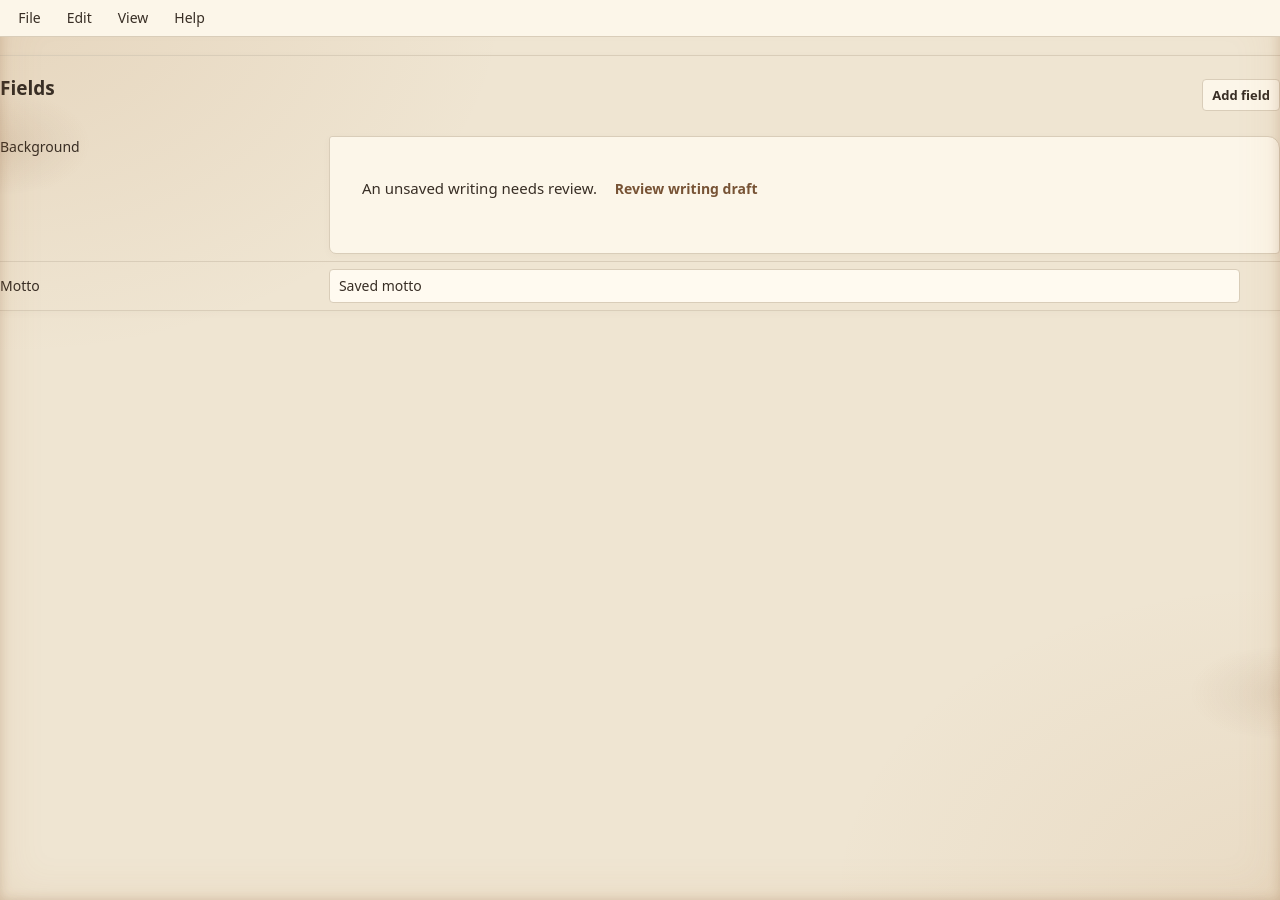
Test case: requires review of a recovered Field draft and blocks close until the author chooses
What coordinates should you click on to do the following:
click the button "Review writing draft"
I would click on:
 (686, 189)
Its box is [601,169,772,209].
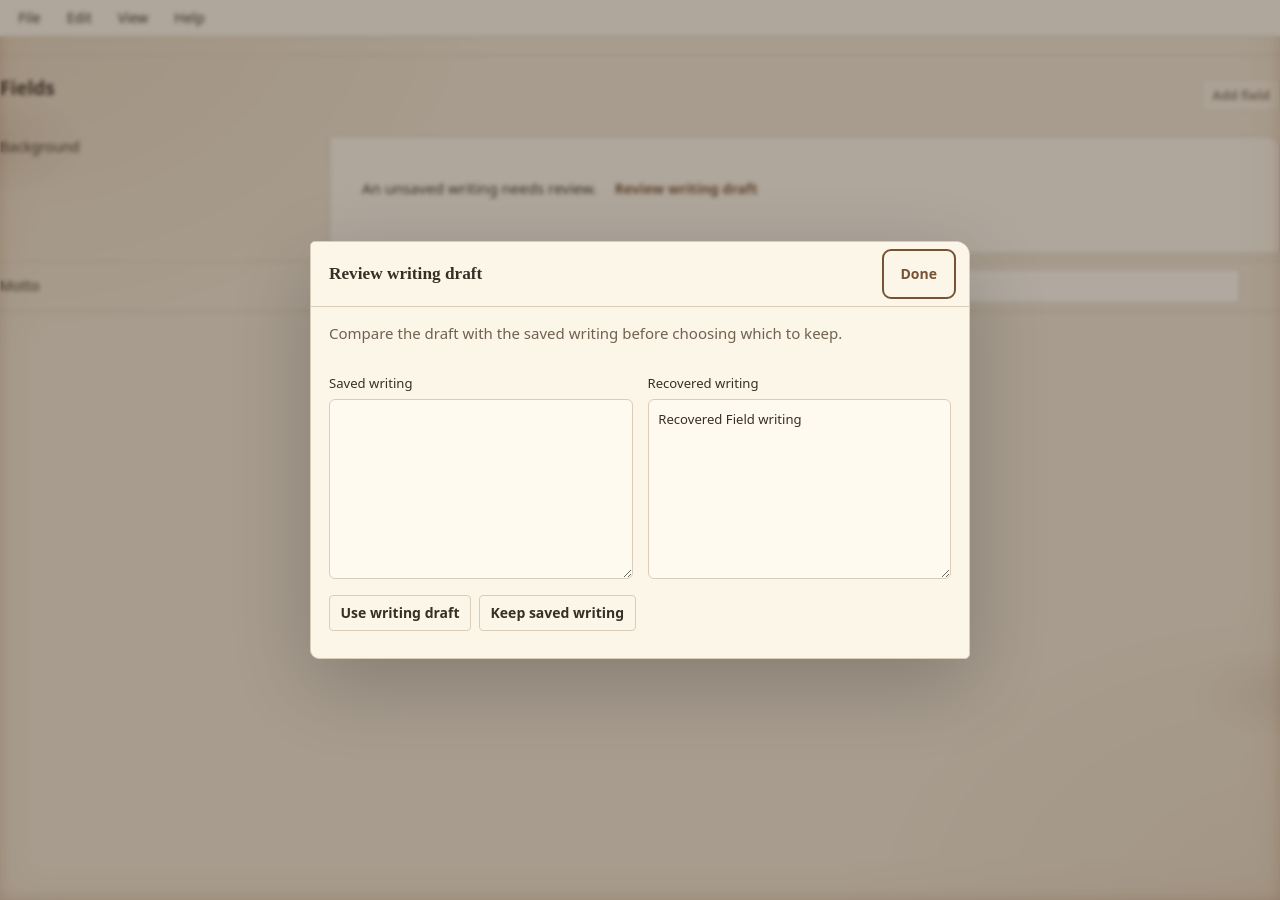
What coordinates should you click on to do the following:
click the button "Use writing draft"
I would click on:
 (400, 613)
Its box is [329,595,471,631].
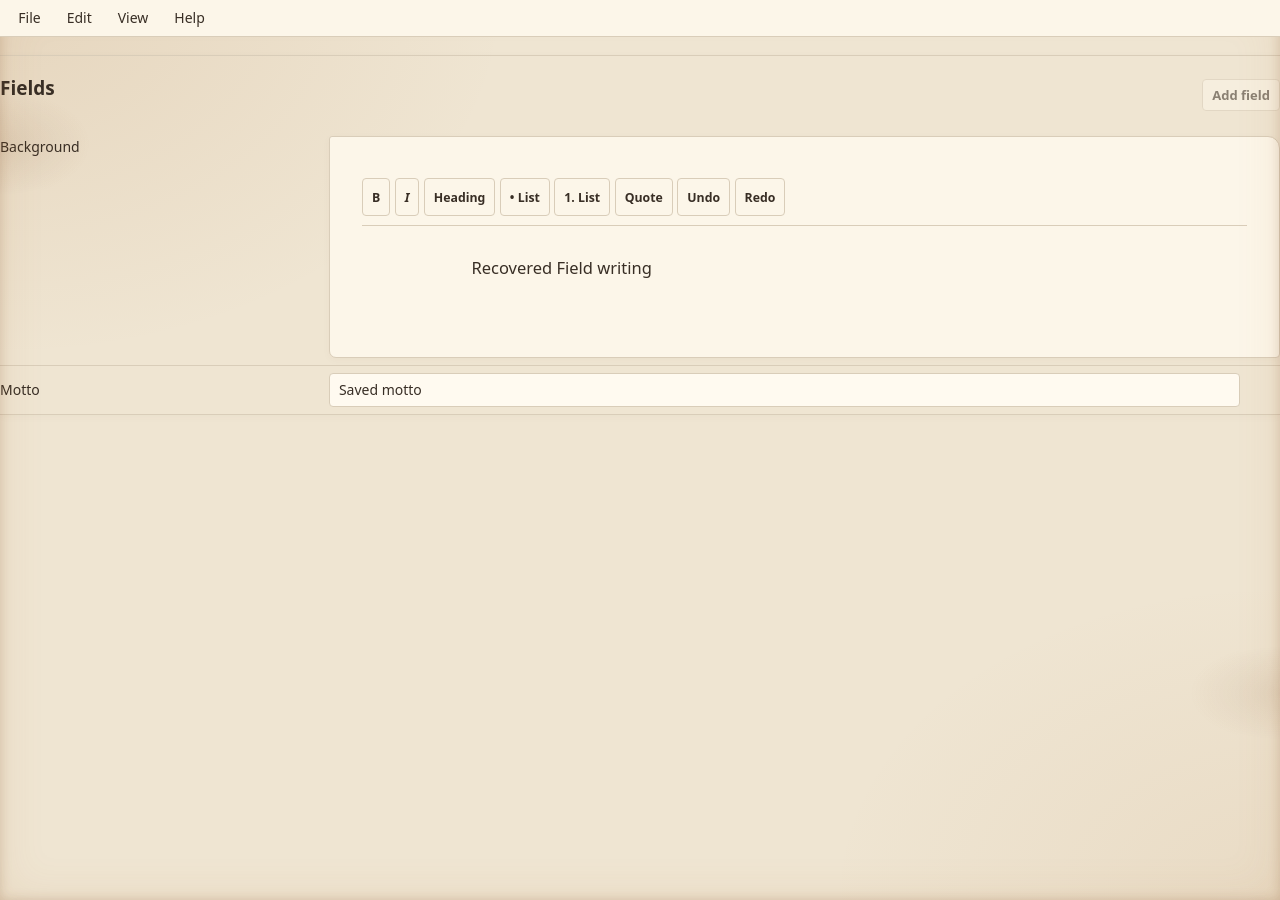
Expected: the field named "Value: Background" reads "Recovered Field writing", [471,256,652,279]
